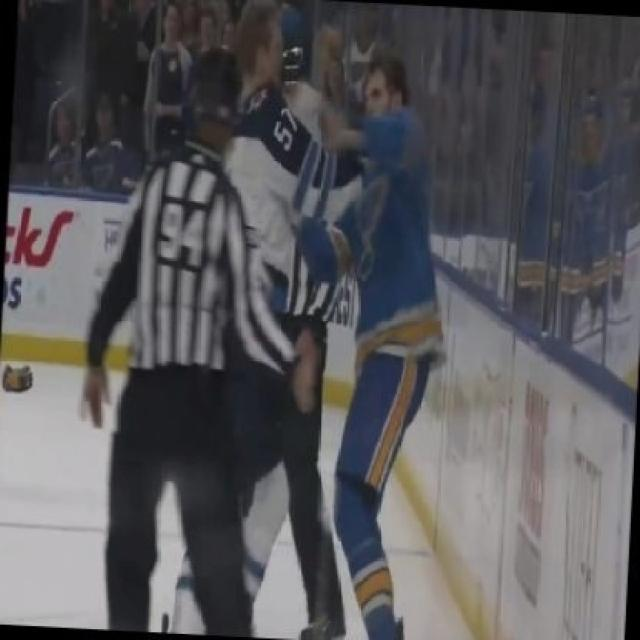fight: (180, 4, 450, 638)
non-fight: (61, 46, 329, 638)
